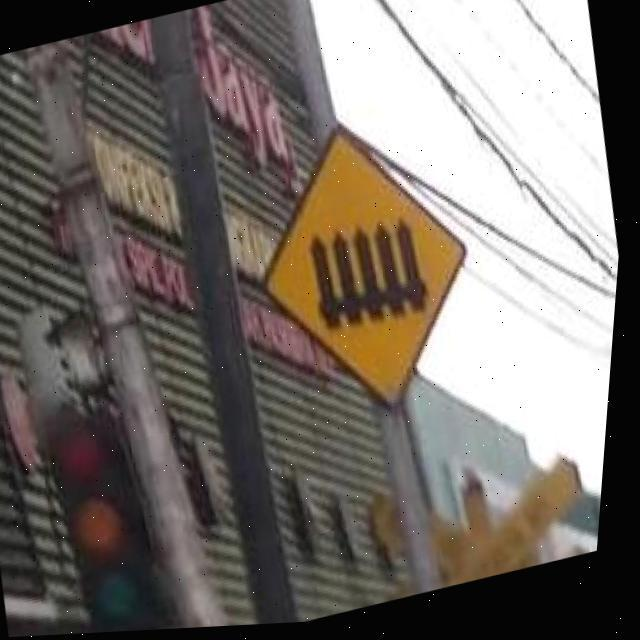Peringatan Perlintasan Kereta Api: (242, 110, 498, 427)
